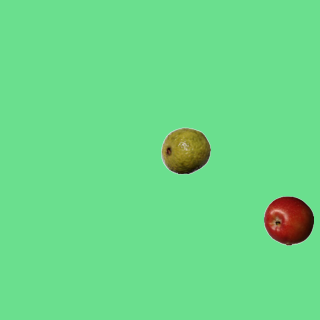Apple Braeburn: (263, 195, 313, 245)
Guava: (160, 125, 210, 175)
